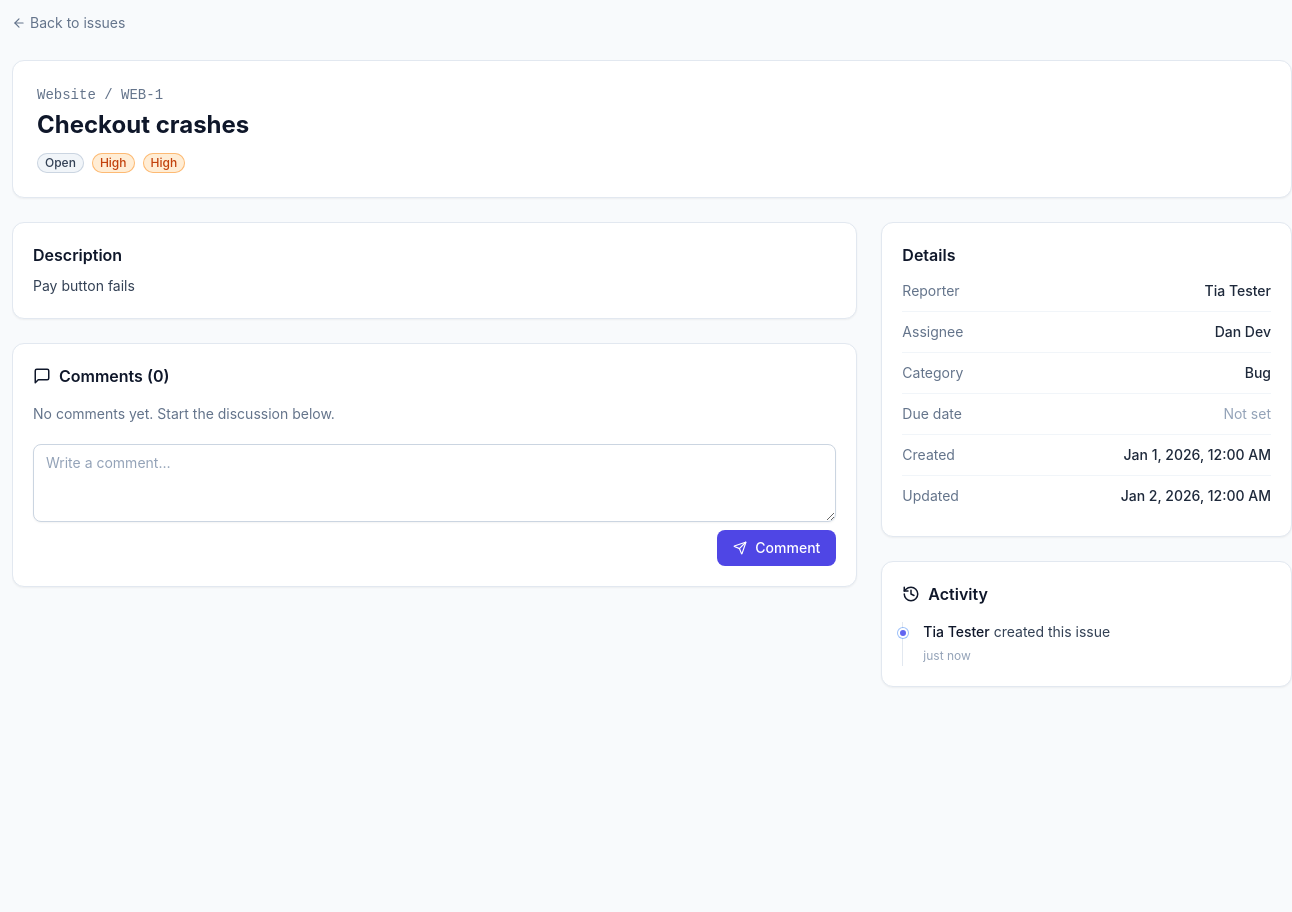
Test: Issue details page respects capabilities › renders the activity timeline and blocks empty comments client-side
expect the text "Tia Tester created this issue" is shown: met, box top-left (923, 623), bottom-right (1110, 640)
Click the button "Comment".
click(777, 548)  # box top-left (717, 530), bottom-right (836, 566)
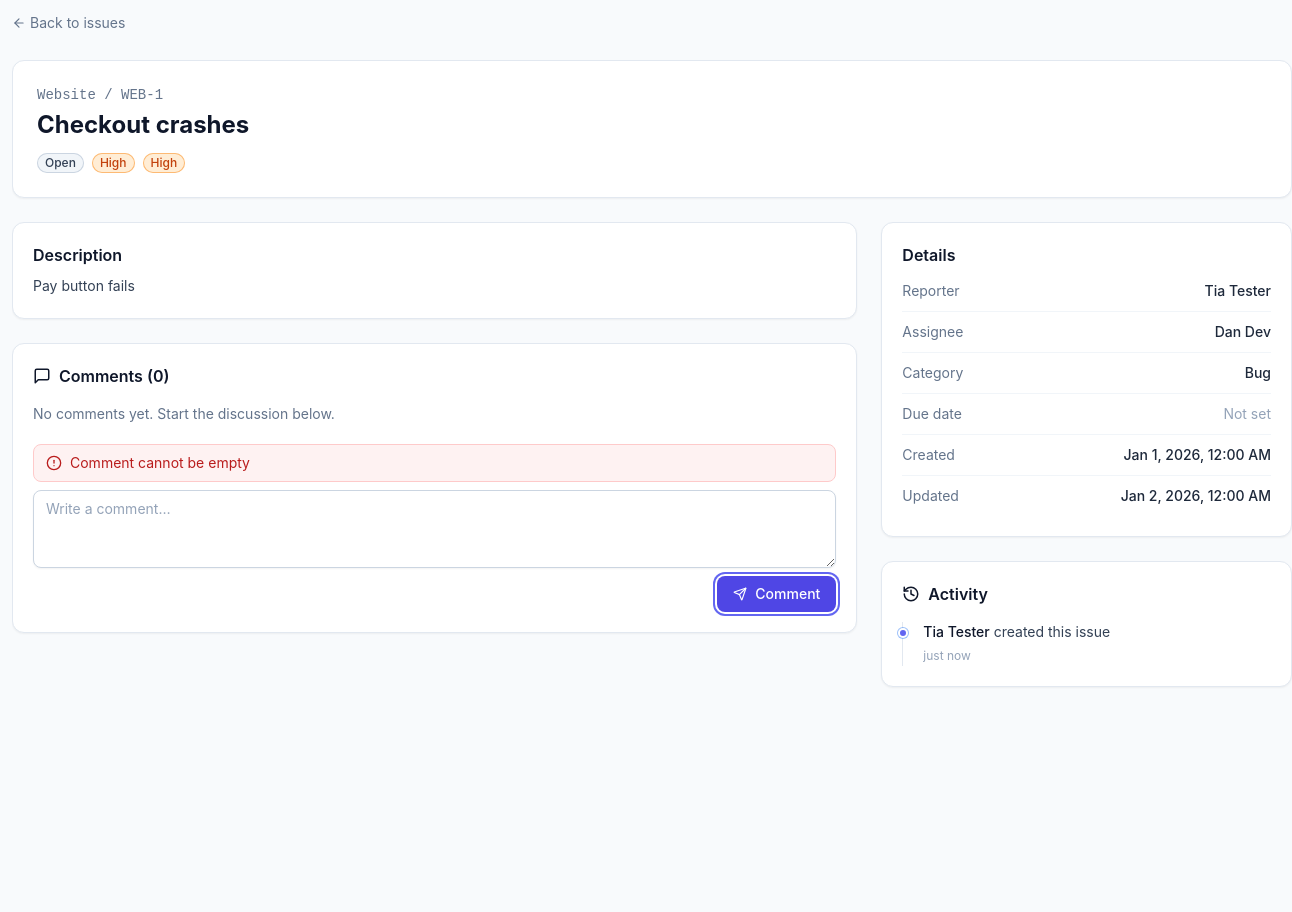
expect the text "Comment cannot be empty" is shown: met, box top-left (70, 453), bottom-right (250, 473)
